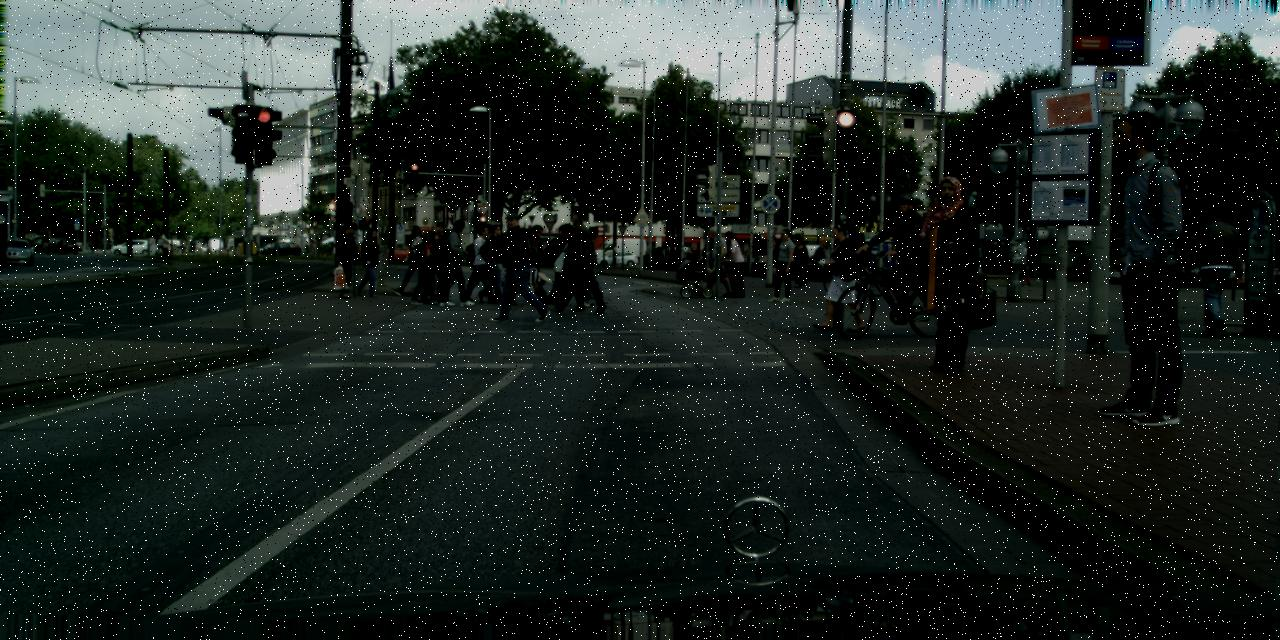ped: (1082, 110, 1207, 418), (910, 175, 990, 368), (1190, 205, 1242, 334), (881, 190, 930, 312), (818, 224, 862, 331), (496, 212, 538, 318), (555, 210, 597, 312), (440, 218, 475, 305), (547, 223, 582, 309), (420, 220, 453, 302), (466, 223, 498, 302), (332, 220, 363, 298), (574, 230, 604, 306), (478, 224, 508, 300), (410, 230, 440, 303), (768, 228, 798, 300), (471, 223, 500, 296), (400, 223, 429, 295), (701, 225, 730, 296), (355, 227, 383, 296), (719, 230, 747, 298), (844, 226, 867, 282), (762, 235, 782, 286), (790, 236, 810, 286), (528, 263, 553, 300), (702, 242, 713, 270), (1021, 260, 1031, 286), (158, 233, 170, 254), (991, 249, 1000, 273), (685, 244, 694, 268), (190, 238, 202, 254), (526, 226, 543, 237), (997, 252, 1005, 274), (87, 233, 94, 251), (512, 285, 518, 305), (305, 242, 309, 253), (542, 254, 544, 260), (542, 242, 542, 246)
